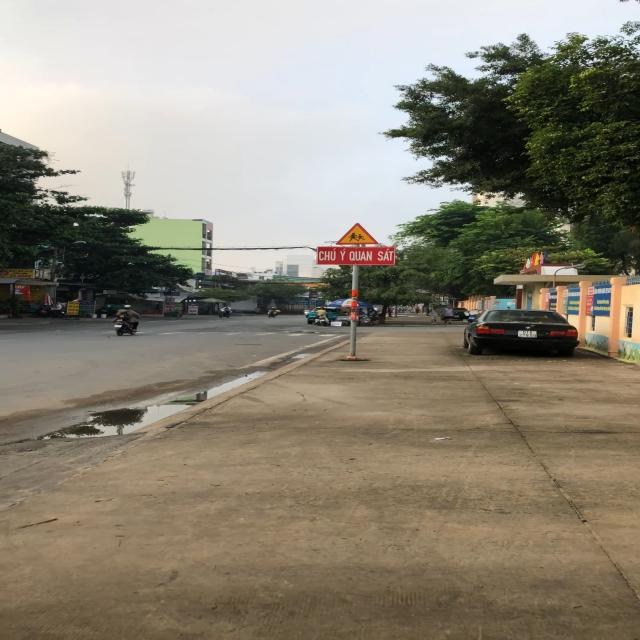Bien bao tre em: (333, 222, 382, 245)
